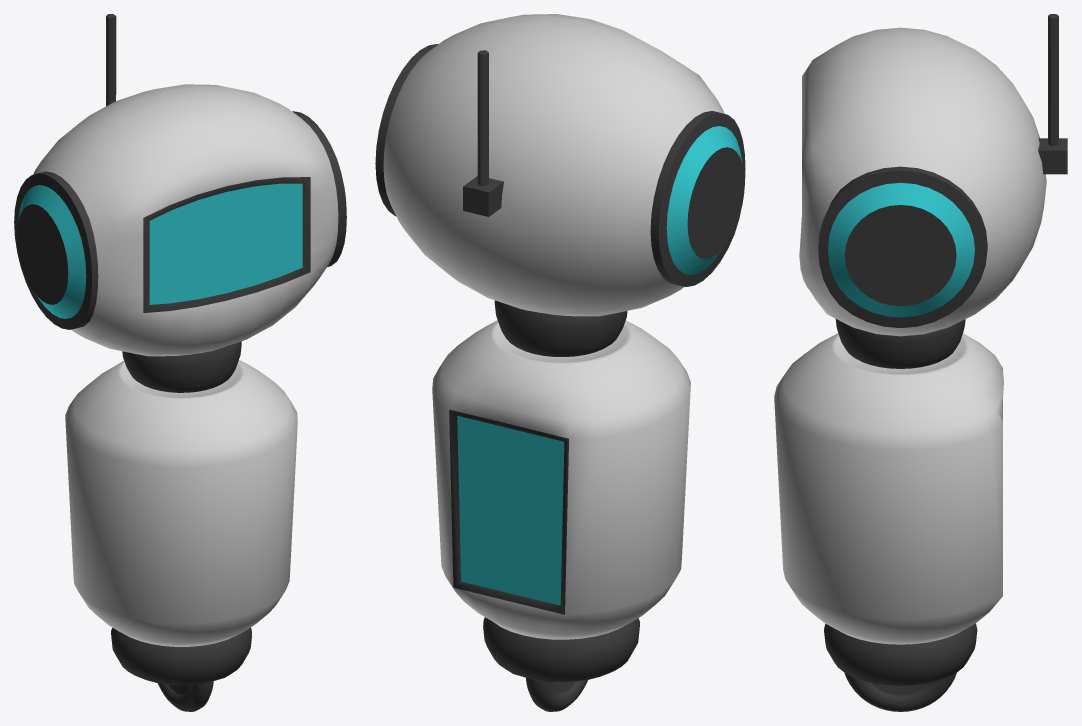
The model's file is Robot.fbx.
3 views of the same model, side by side, from view 1: azimuth 30°, elevation 25°; view 2: azimuth 150°, elevation 25°; view 3: azimuth 270°, elevation 25° (orthographic). The views are drawn at different scales.
Visible parts, largest first — view 1: Sphere.000; view 2: Sphere.000; view 3: Sphere.000.
Part boxes in pixels (<box>): Sphere.000: <box>14,14,346,711</box>; Sphere.000: <box>375,14,745,711</box>; Sphere.000: <box>774,14,1067,711</box>.
Bounding box in the file's own units: 238 × 526 × 201.
